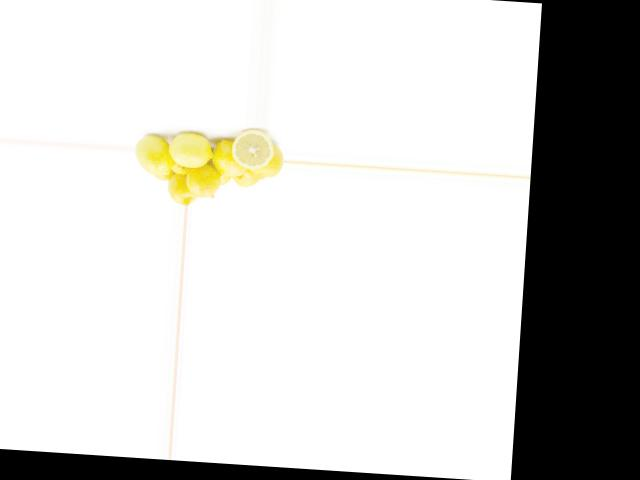lemon: (249, 143, 282, 178)
